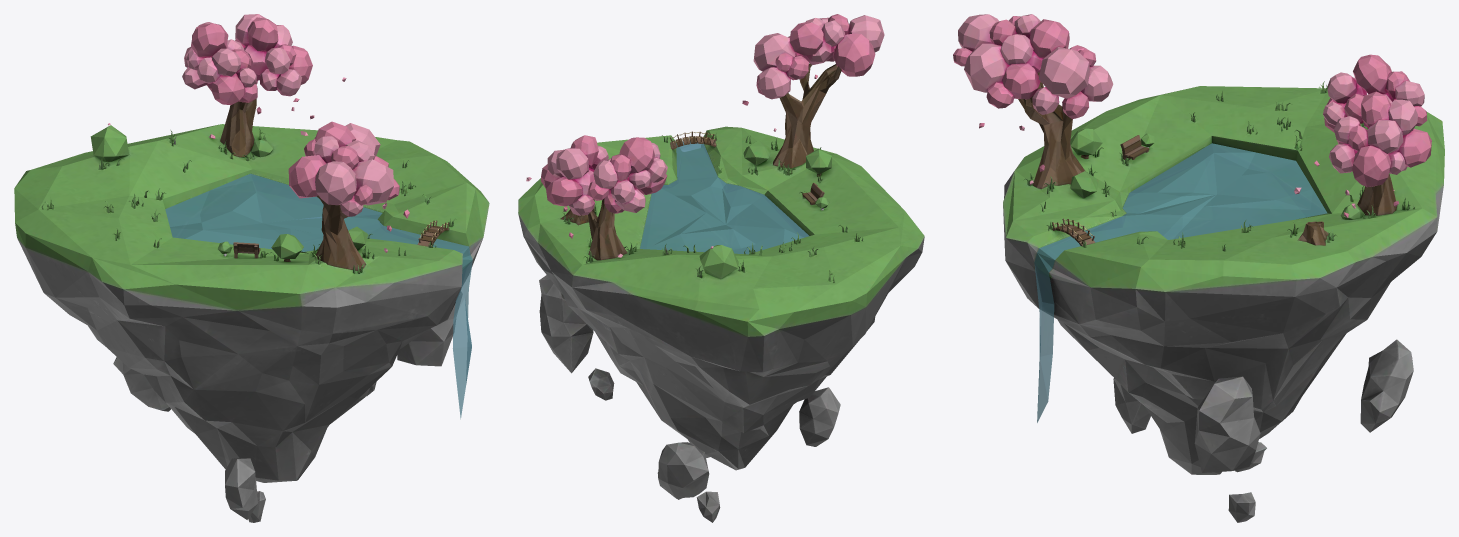
The picture shows the model from 3 angles, left to right: view 1: azimuth 30°, elevation 25°; view 2: azimuth 150°, elevation 25°; view 3: azimuth 270°, elevation 25°; orthographic projection. The views are drawn at different scales.
Parts seen in each view (by area): view 1: defaultMaterial (×2); view 2: defaultMaterial (×2); view 3: defaultMaterial (×2).
Boxes of the visible parts, left/top/right/bottom form: defaultMaterial (×2): left=14, top=14, right=489, bottom=522; defaultMaterial (×2): left=518, top=14, right=924, bottom=522; defaultMaterial (×2): left=953, top=14, right=1444, bottom=522.
Size of the model in its own units: 845 by 971 by 873.
Materials: 2 (2 with a texture image).
